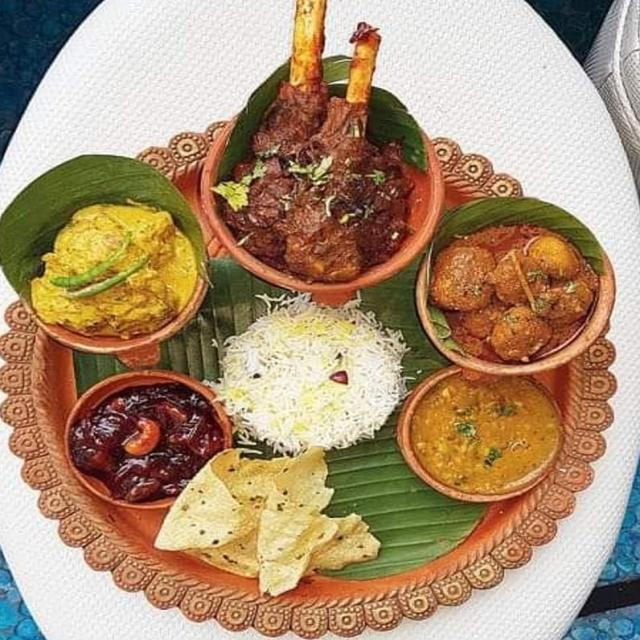non veg meals: (0, 16, 632, 595)
